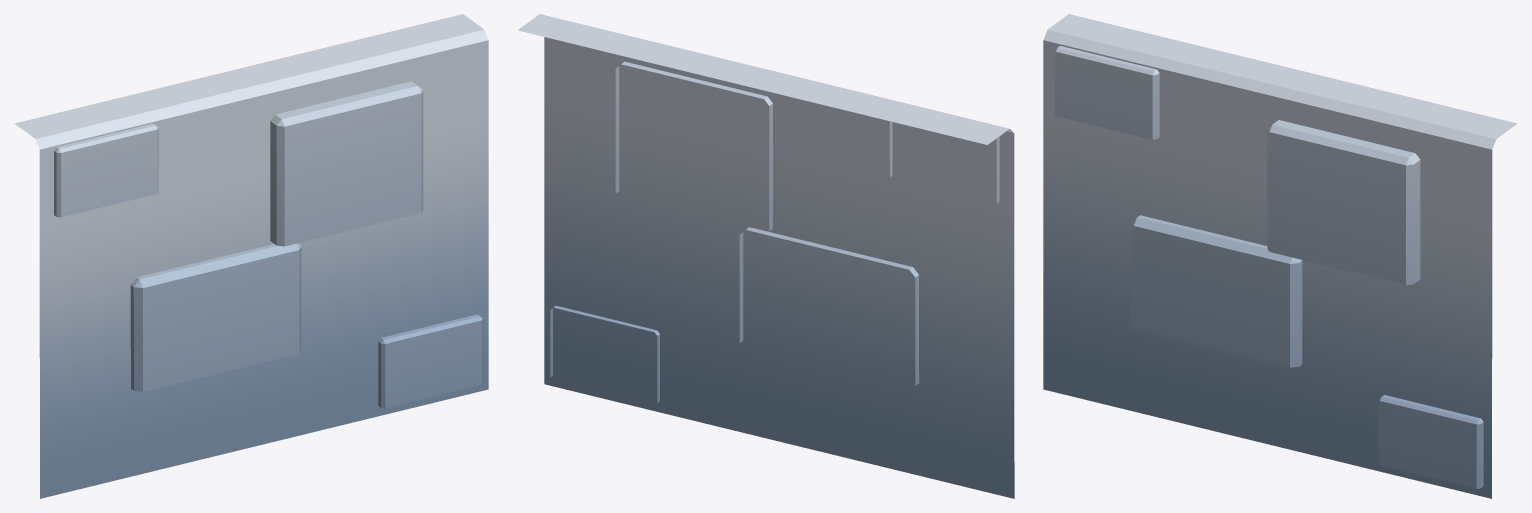
The model's file is Wall Btm 01.fbx.
The picture shows the model from 3 angles, left to right: view 1: azimuth 30°, elevation 25°; view 2: azimuth 150°, elevation 25°; view 3: azimuth 330°, elevation 25°; orthographic projection. The views are drawn at different scales.
Visible parts, largest first — view 1: Wall Btm 01.001; view 2: Wall Btm 01.001; view 3: Wall Btm 01.001.
Boxes of the visible parts, x1,y1,x2,y2 form: Wall Btm 01.001: (14,14,488,498); Wall Btm 01.001: (518,14,1014,498); Wall Btm 01.001: (1043,14,1517,498).
Bounding box in the file's own units: 400 × 304 × 54.06.
